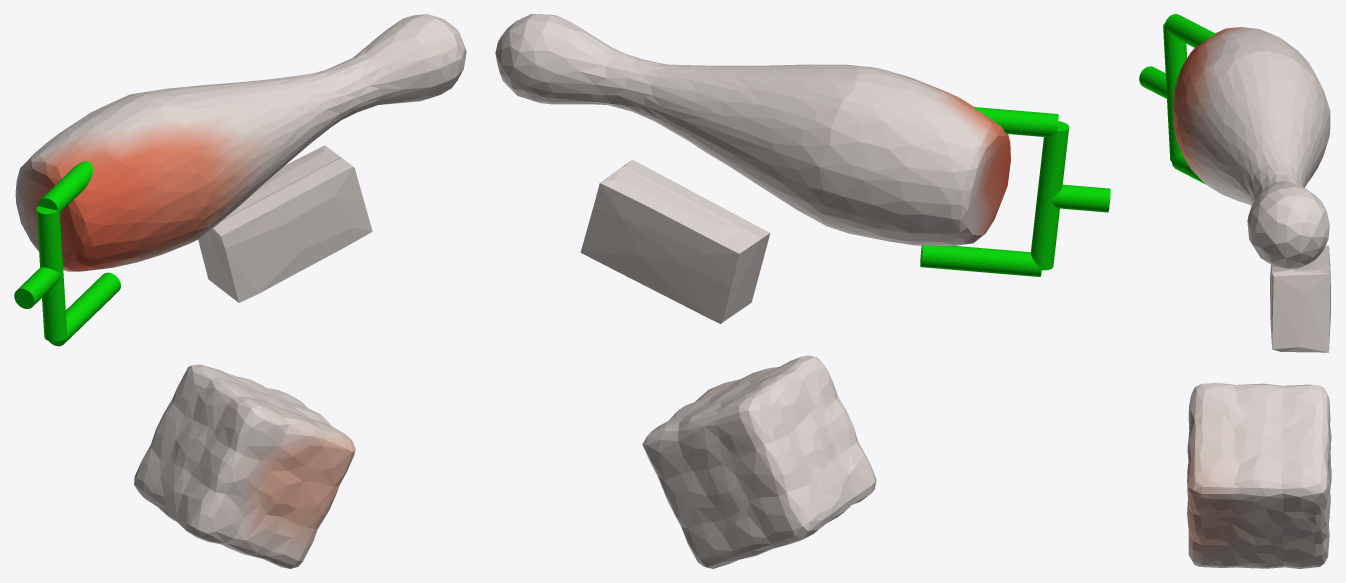
Rendered from round_000_trial_001.obj.
3 renders of one model, left to right at view 1: azimuth 30°, elevation 25°; view 2: azimuth 150°, elevation 25°; view 3: azimuth 270°, elevation 25°, orthographic. The views are drawn at different scales.
Parts seen in each view (by area): view 1: geometry_0, geometry_1; view 2: geometry_0, geometry_1; view 3: geometry_0, geometry_1.
Boxes of the visible parts, box(x1,y1,x2,y2) form: geometry_0: box(15, 14, 466, 568); geometry_1: box(14, 161, 120, 346); geometry_0: box(495, 14, 1010, 568); geometry_1: box(920, 107, 1110, 276); geometry_0: box(1172, 27, 1331, 568); geometry_1: box(1139, 14, 1215, 184).
Size of the model in its own units: 0.2574 by 0.2285 by 0.086.
